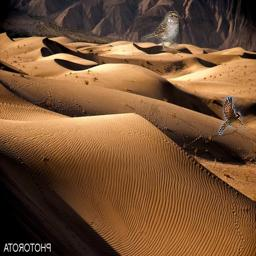Sparrow: (141, 11, 179, 51)
Swallow: (218, 96, 251, 136)
